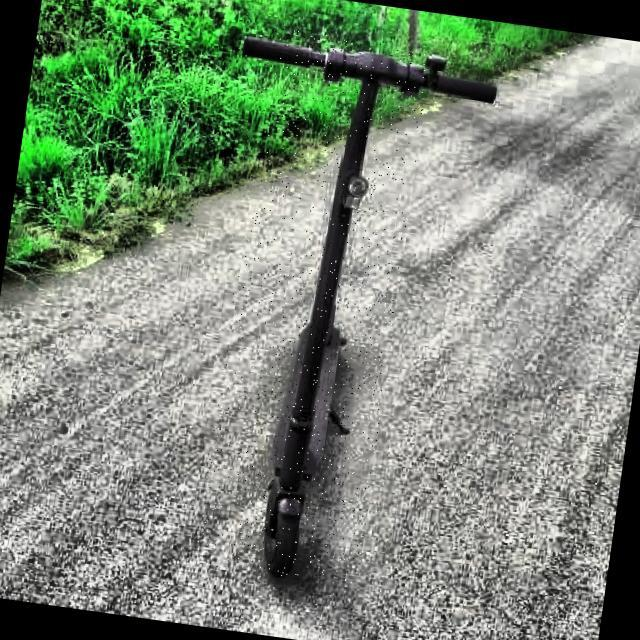bike: (236, 1, 640, 590)
